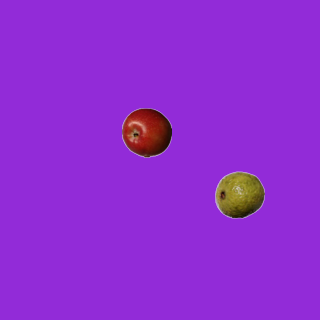Apple Braeburn: (121, 107, 171, 157)
Guava: (214, 169, 264, 219)
